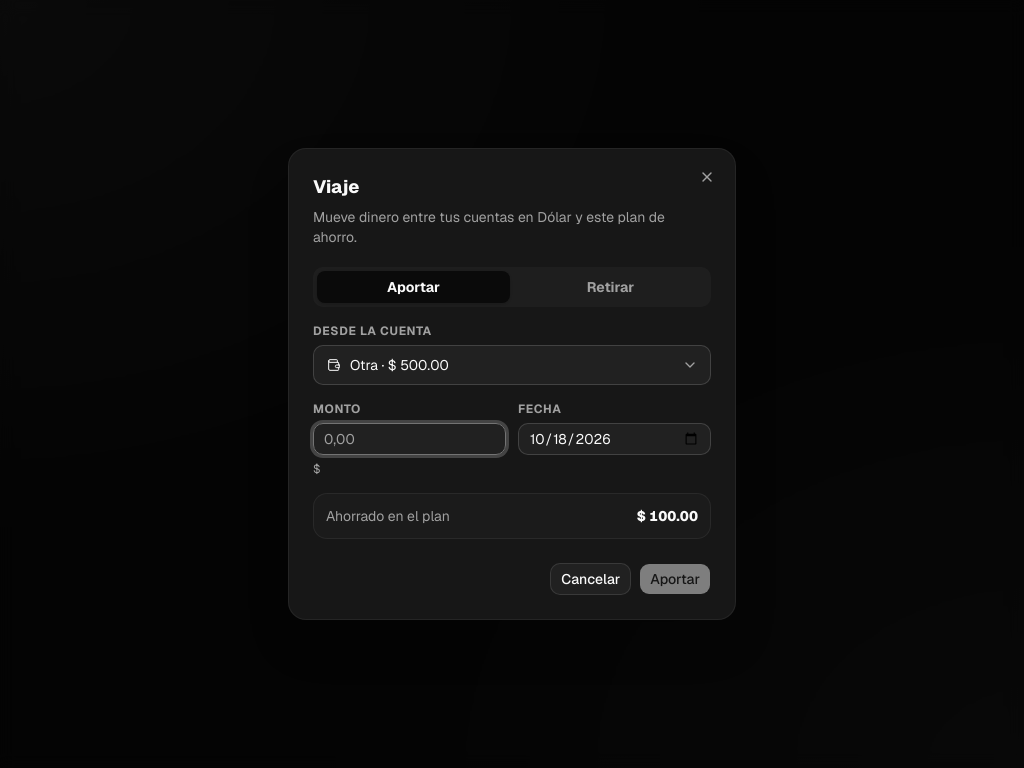
it: GoalContributionDialog — retirar › no deja retirar hacia una cuenta lo que aportó otra
Click the button "Retirar" at (610, 287), box [514, 271, 707, 303]
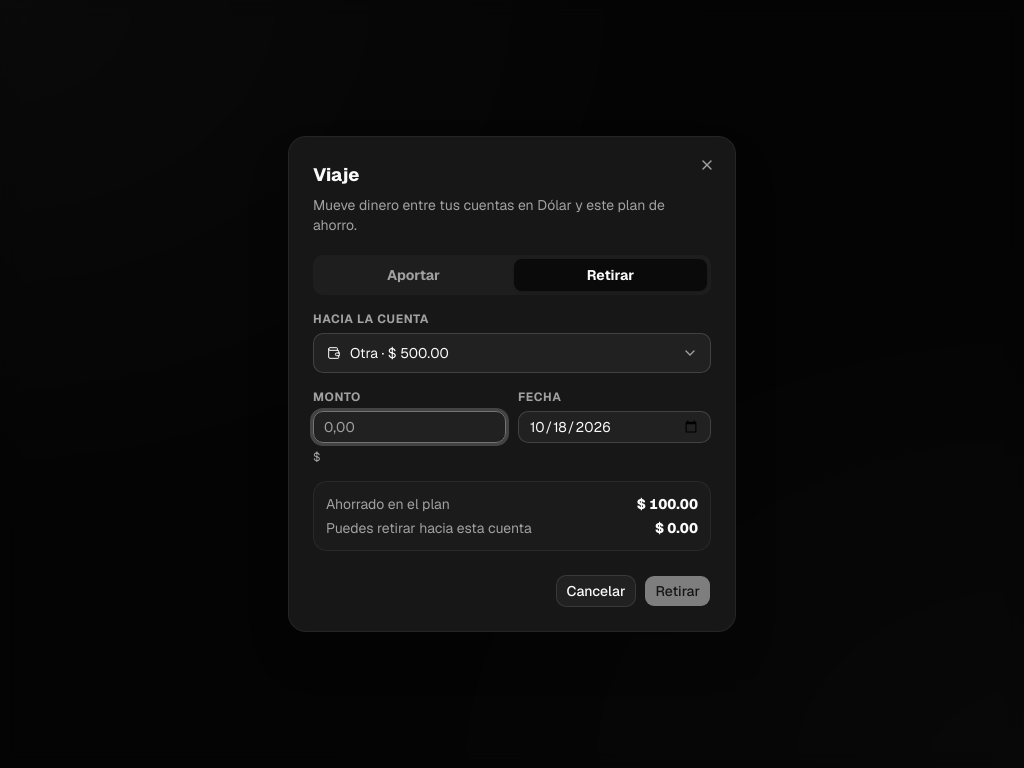
Type "50" into the field with placeholder "0,00" at (410, 427), box [313, 411, 506, 443]
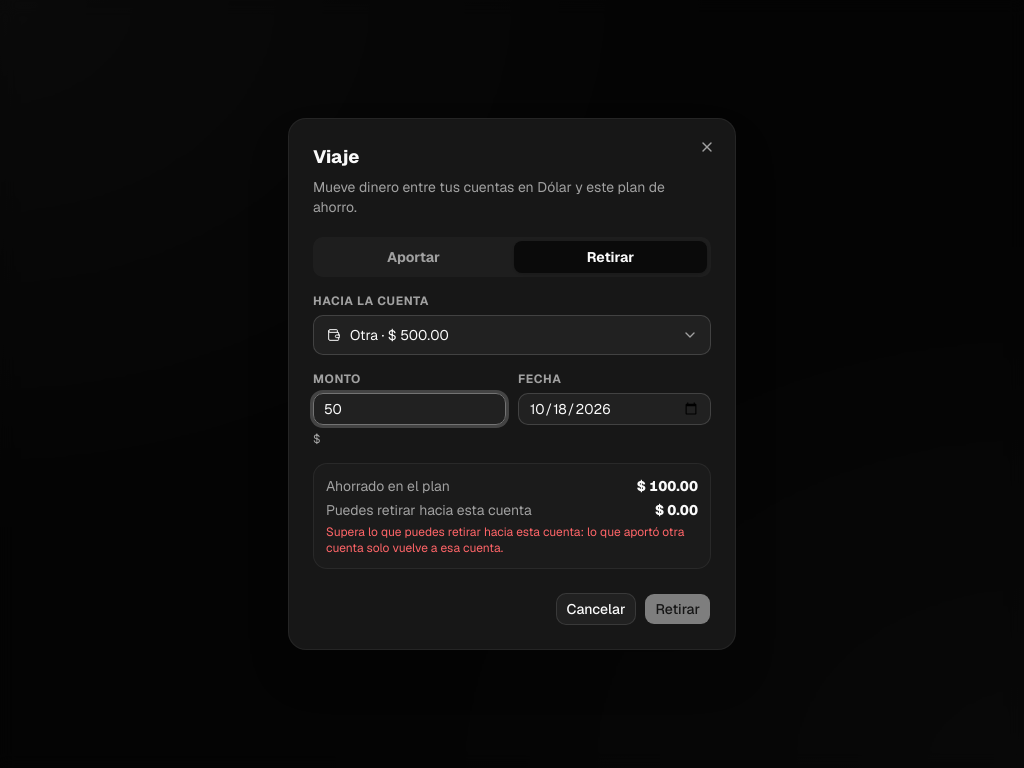
Expected: the 2nd button "Retirar" is disabled, [644, 593, 711, 625]
Expected: the text "Supera lo que puedes retirar hacia esta cuenta" is shown, [326, 524, 684, 556]
